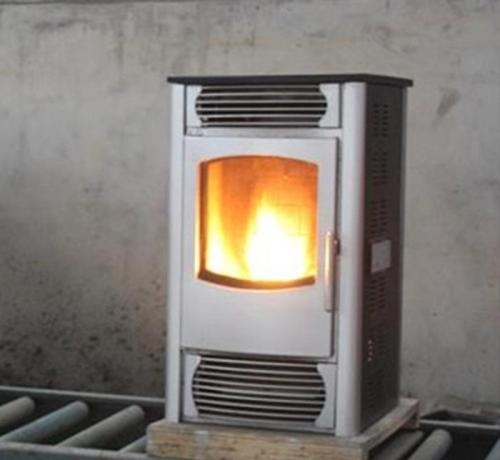fire: (200, 191, 316, 282)
